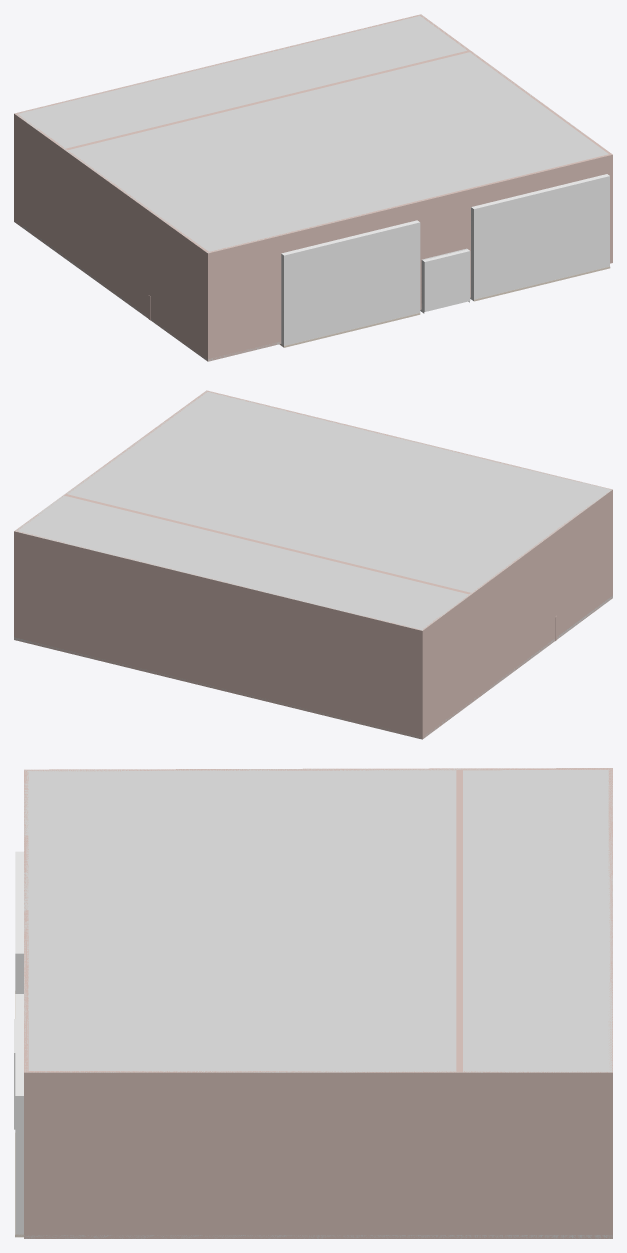
File: cafe 1.fbx
3 renders of one model, top to bottom at view 1: azimuth 30°, elevation 25°; view 2: azimuth 150°, elevation 25°; view 3: azimuth 270°, elevation 25°, orthographic. The views are drawn at different scales.
Visible parts, largest first — view 1: Ceiling, Room, CTRL_Hole.001, CTRL_Hole.002, CTRL_Hole, Room.001, Baseboard; view 2: Ceiling, Room, Room.001, Baseboard; view 3: Ceiling, Room, CTRL_Hole.002, Room.001, CTRL_Hole.001, Baseboard.
Part boxes in pixels (x1=…): Ceiling: x1=14, y1=14, x2=608, y2=253; Room: x1=14, y1=14, x2=612, y2=361; CTRL_Hole.001: x1=281, y1=220, x2=420, y2=345; CTRL_Hole.002: x1=470, y1=174, x2=609, y2=300; CTRL_Hole: x1=421, y1=249, x2=470, y2=311; Room.001: x1=66, y1=50, x2=470, y2=150; Baseboard: x1=14, y1=220, x2=421, y2=361; Ceiling: x1=15, y1=390, x2=612, y2=630; Room: x1=14, y1=390, x2=612, y2=739; Room.001: x1=64, y1=494, x2=470, y2=594; Baseboard: x1=14, y1=596, x2=612, y2=738; Ceiling: x1=24, y1=768, x2=612, y2=1072; Room: x1=24, y1=768, x2=612, y2=1238; CTRL_Hole.002: x1=15, y1=994, x2=23, y2=1236; Room.001: x1=456, y1=770, x2=462, y2=1072; CTRL_Hole.001: x1=15, y1=851, x2=23, y2=993; Baseboard: x1=24, y1=1235, x2=612, y2=1238.
Bounding box in the file's own units: 1967 × 510 × 1634.
